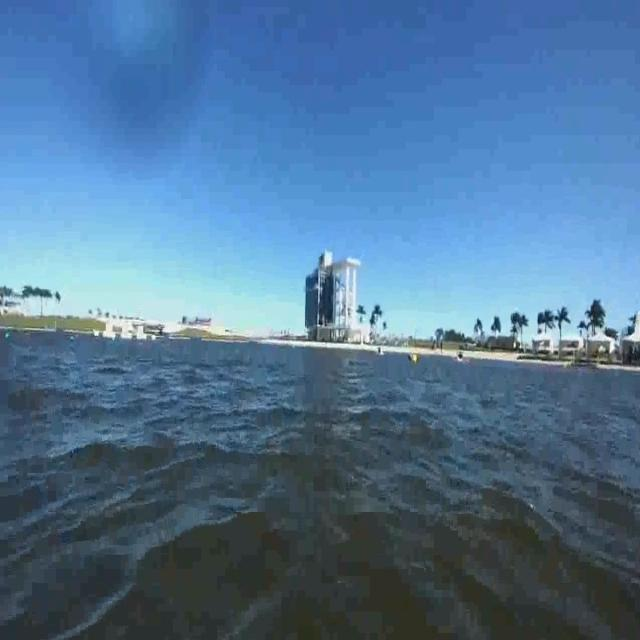yellow-buoy: (412, 352, 419, 365)
